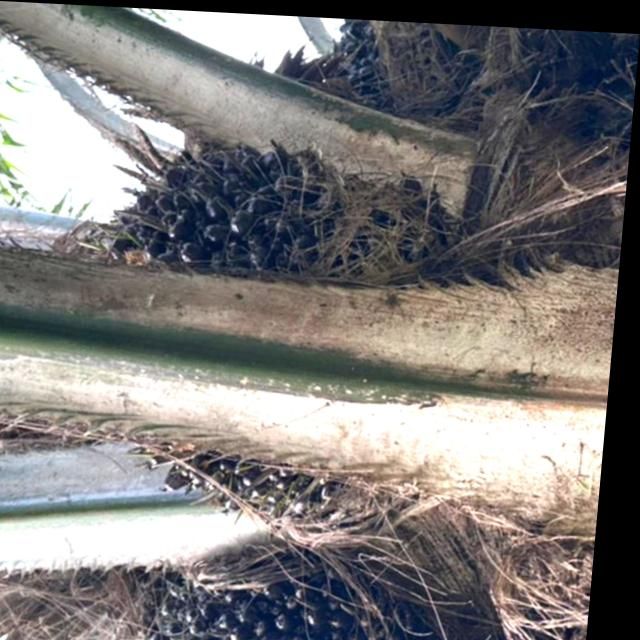almost: (59, 113, 447, 542)
